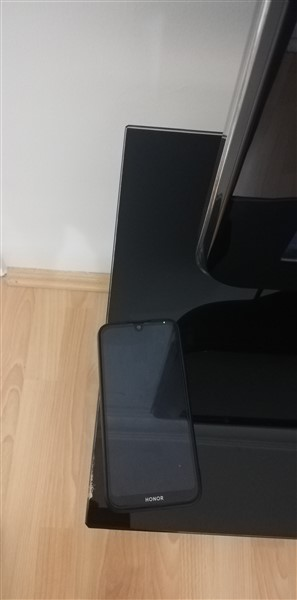telefon: (90, 319, 210, 515)
